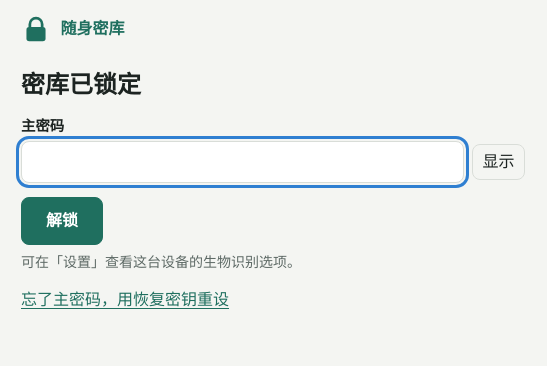
首次设置与解锁 › 解锁失败显示原因，密码框随即清空
In the password field labelled "主密码": (242, 162) [21,141,464,183], type "fake-wrong-000"
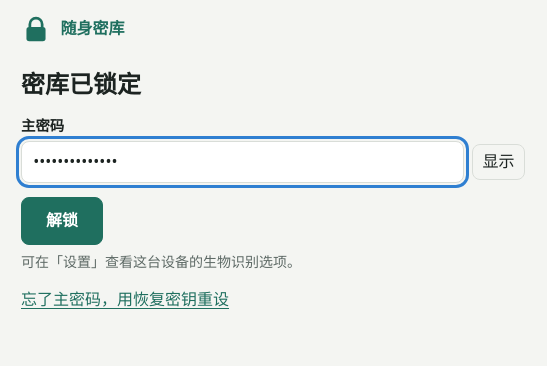
# 显示输入后提交，也要清空
Click the button with aria-label "显示输入": (498, 162) [472,144,525,180]
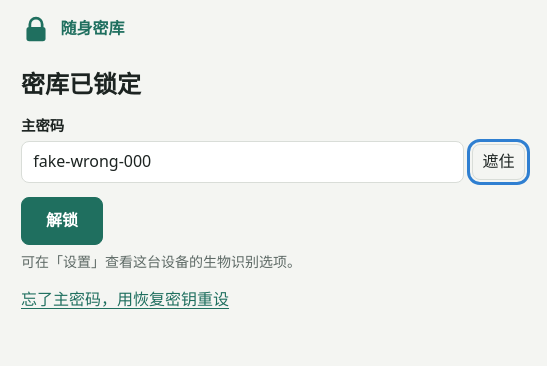
Click the button "解锁": (62, 221) [21,197,103,245]
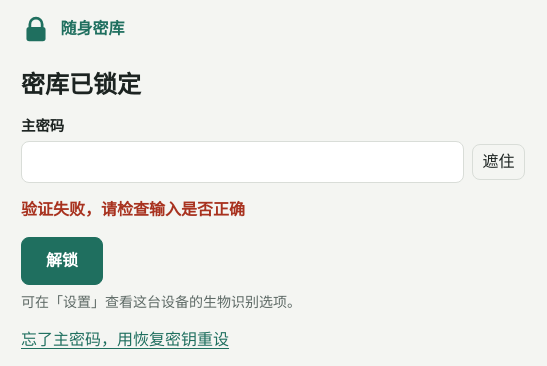
Check: the message shows "验证失败", box [21,198,245,220]
Check: the field labelled "主密码" is empty, box [21,141,464,183]
